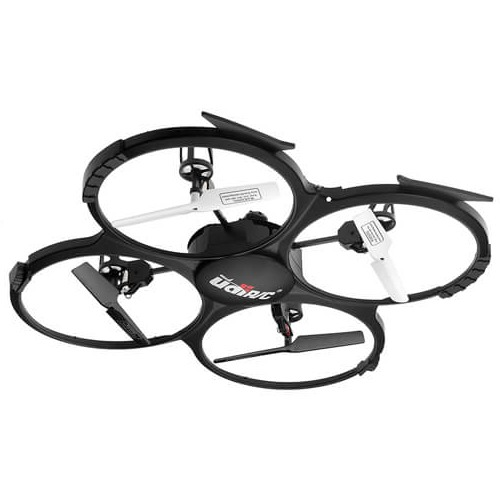drone: (11, 124, 492, 391)
